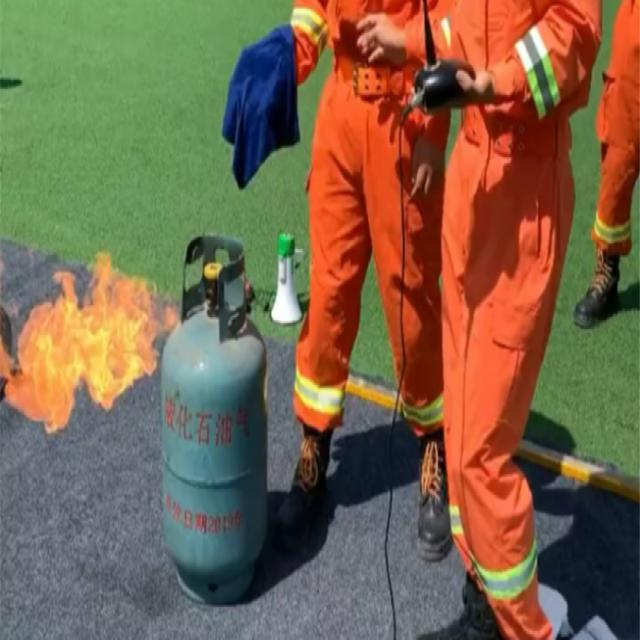Fire: (0, 260, 164, 436)
